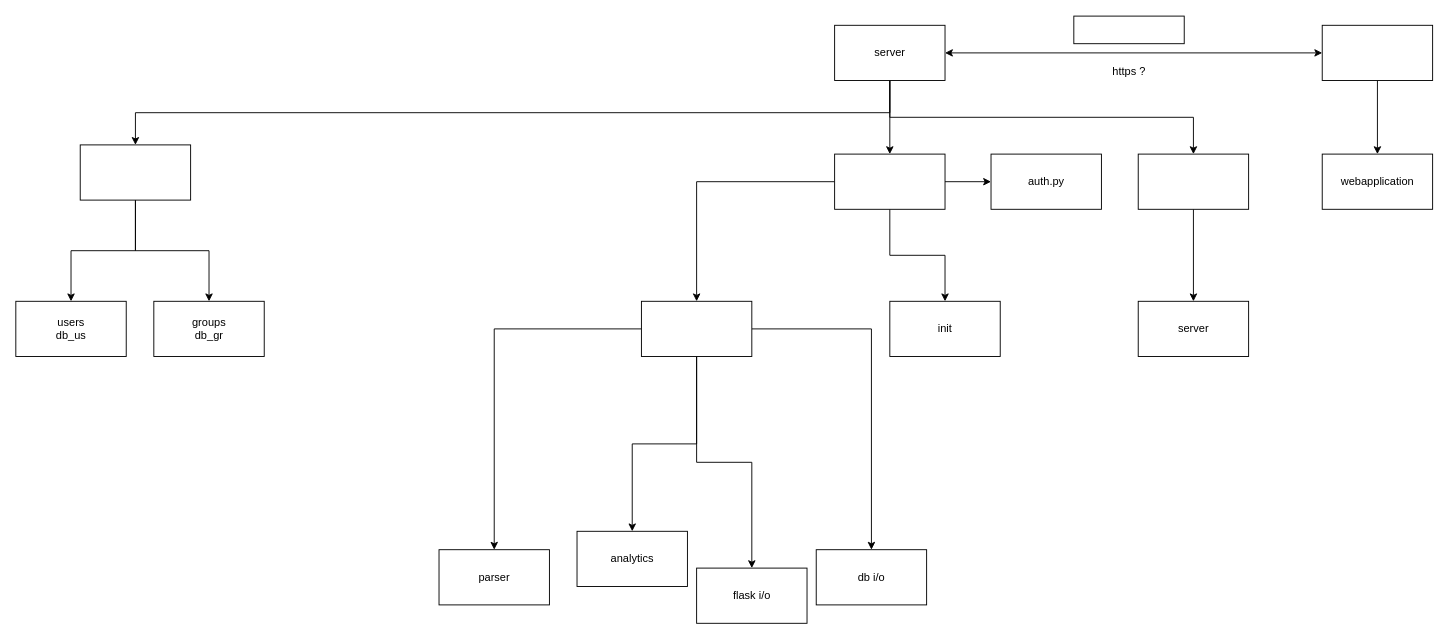
Some shapes in this 1449 by 639 pixel diagram are drawn without their labels. Each missing label, with the centre of its shape:
"client" goes at point 1377,52.
"database" goes at point 135,172.
"flask" goes at point 1193,181.
"modules" goes at point 696,328.
"some auth stuff" goes at point 1128,29.
"vk_analysis" goes at point 889,181.
